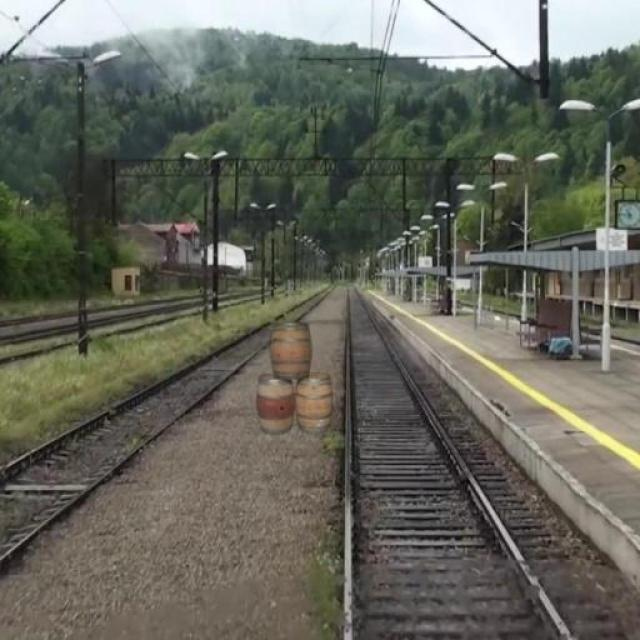Other_objects: (269, 314, 316, 389), (255, 368, 296, 441), (297, 370, 338, 437)
